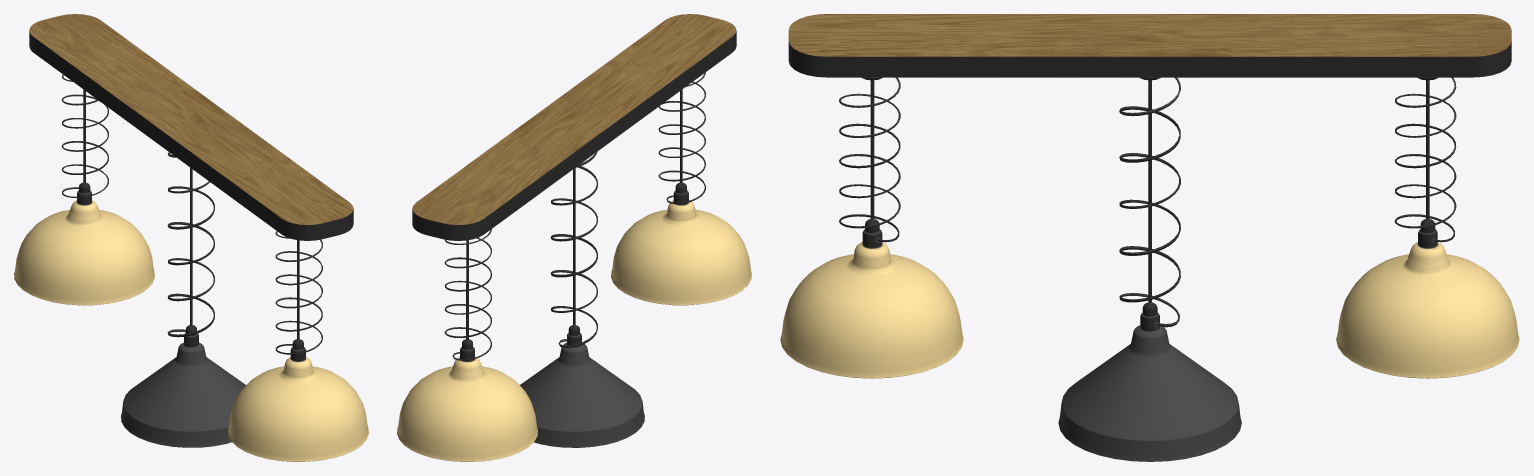
Rendered from SM_LampsS.fbx.
3 views of the same model, side by side, from view 1: azimuth 30°, elevation 25°; view 2: azimuth 150°, elevation 25°; view 3: azimuth 270°, elevation 25° (orthographic). The views are drawn at different scales.
Visible parts, largest first — view 1: SM_LampsS_LOD0; view 2: SM_LampsS_LOD0; view 3: SM_LampsS_LOD0.
Part boxes in pixels (x1=…): SM_LampsS_LOD0: x1=14, y1=14, x2=368, y2=461; SM_LampsS_LOD0: x1=397, y1=14, x2=751, y2=461; SM_LampsS_LOD0: x1=780, y1=14, x2=1519, y2=461.
Size of the model in its own units: 45.86 by 185 by 107.
Materials: 2 (2 with a texture image).
